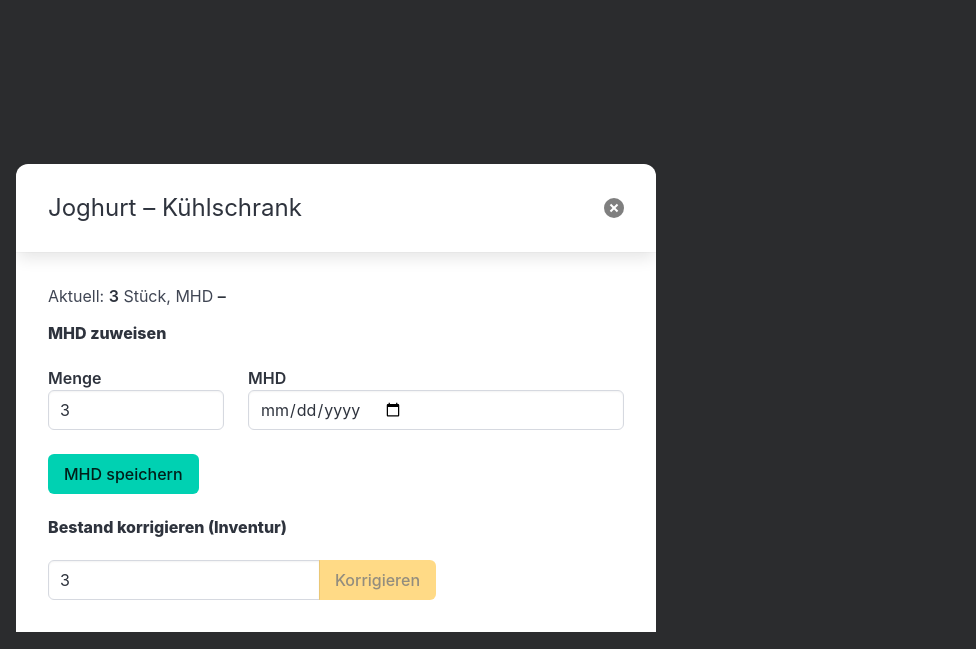
Test case: BatchModal › reports conflicts
The image size is (976, 649).
Check: the text "–" is shown, box [218,286,226,306]
Click the button "MHD speichern".
click(123, 474)  # box [48,454,198,494]
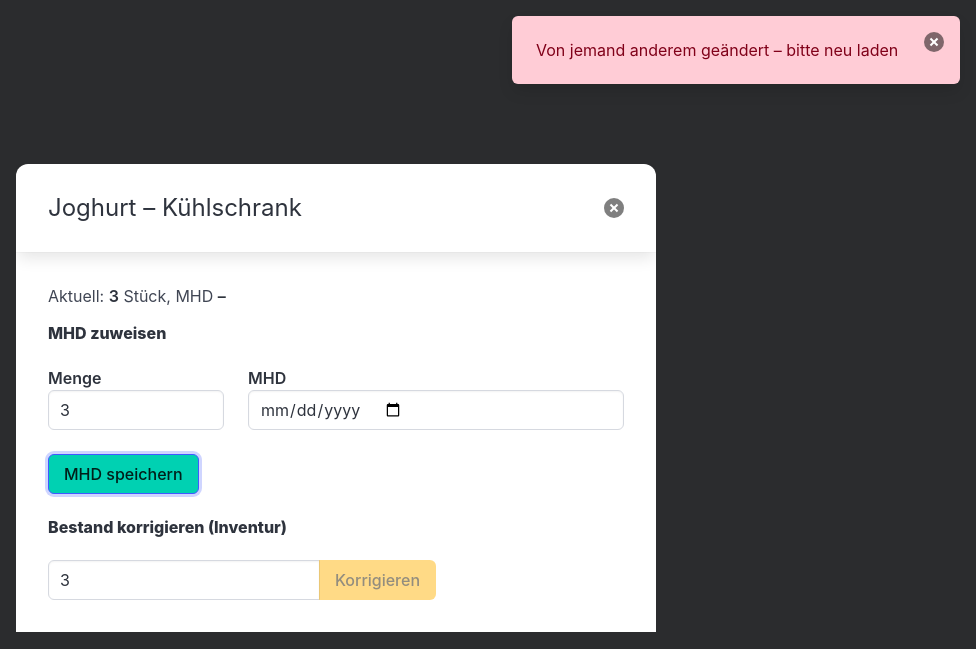
Check: the text "Von jemand anderem geändert – bitte neu laden" is shown, box [512,16,960,84]
